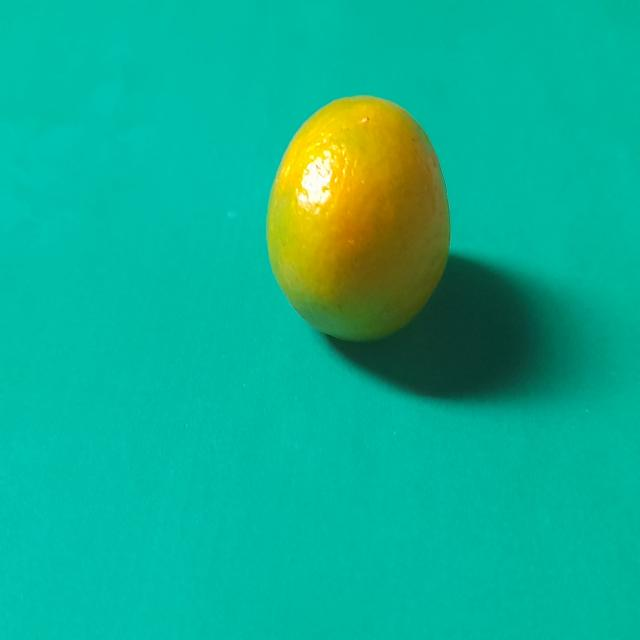greening: (273, 97, 454, 344)
